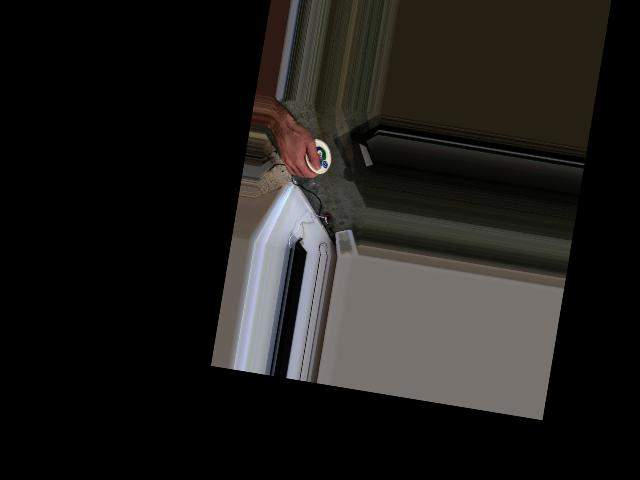cotage: (299, 137, 334, 175)
